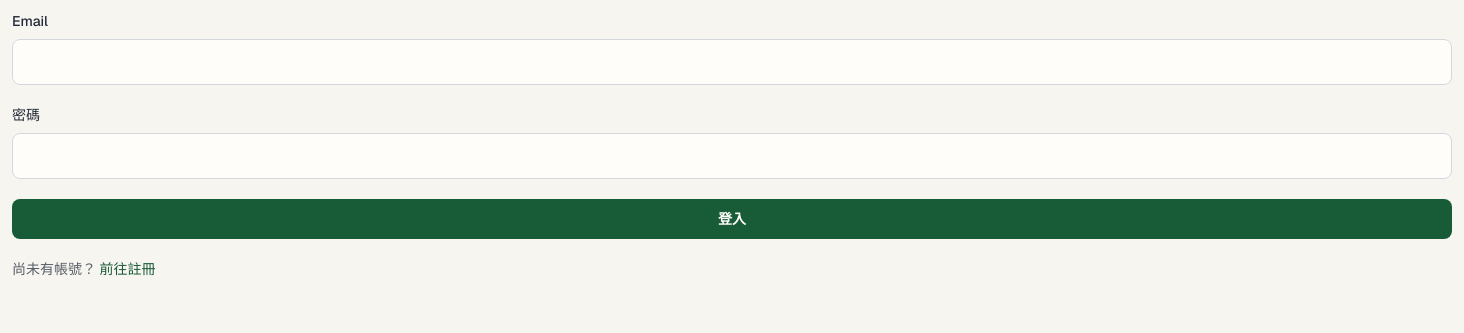
Test: LoginForm › USER_DISABLED 時顯示帳號停用訊息
Type "disabled@example.com" into the field labelled "Email" at (732, 62), box [12,39,1452,85]
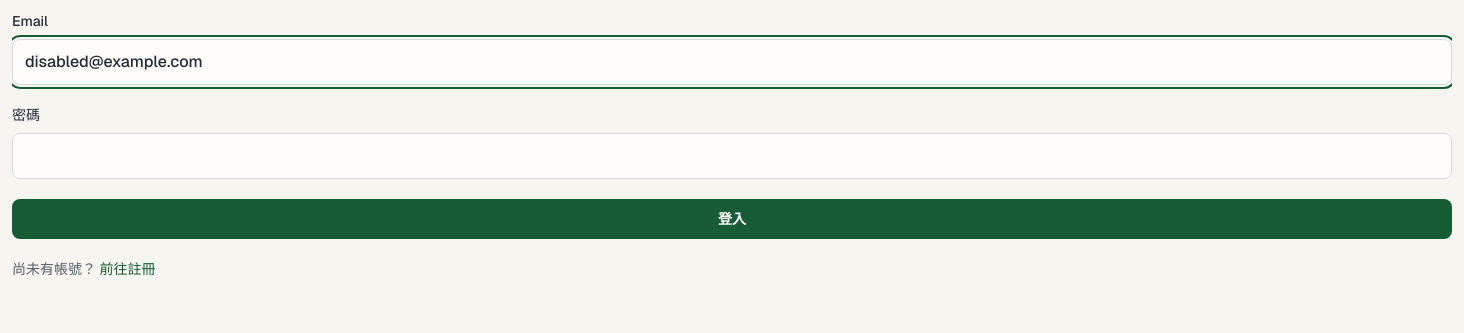
Type "password123" into the password field labelled "密碼" at (732, 156), box [12,133,1452,179]
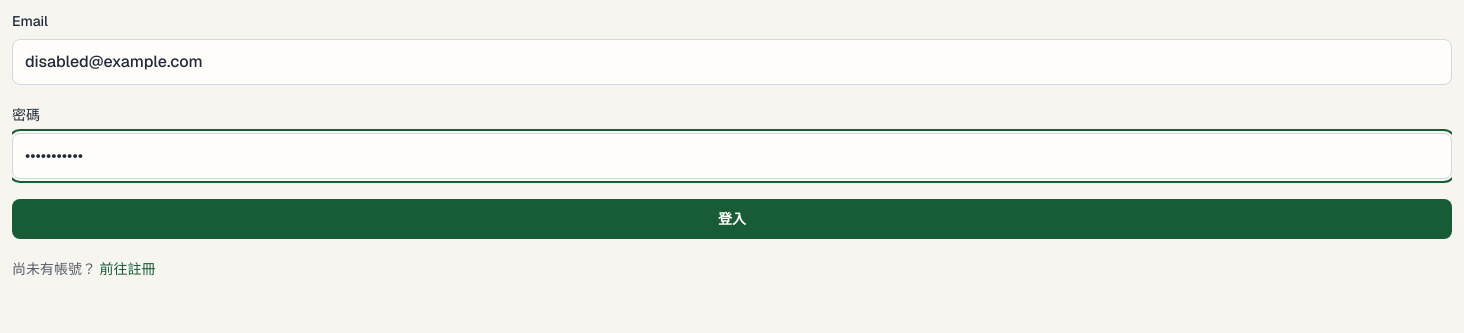
Click the button "登入" at (732, 219), box [12,199,1452,239]
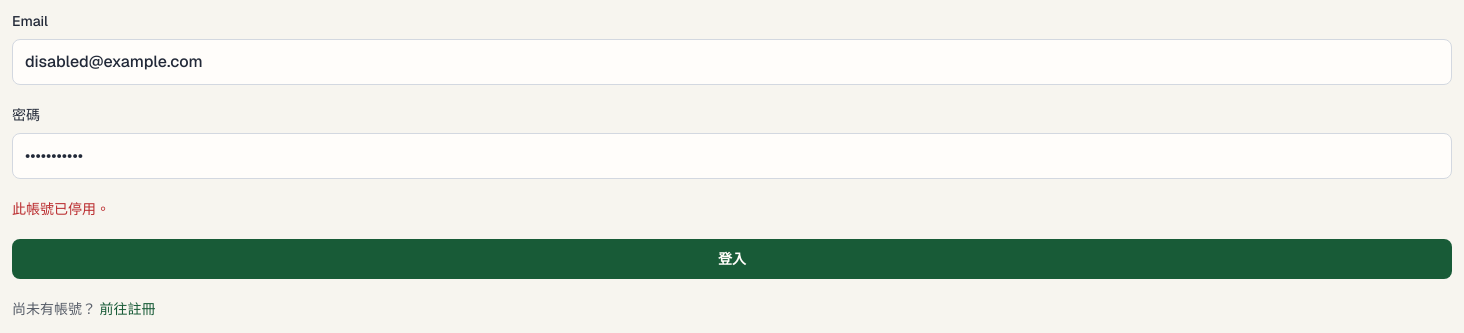
Expected: the text "此帳號已停用。" is shown, [12,200,110,218]
